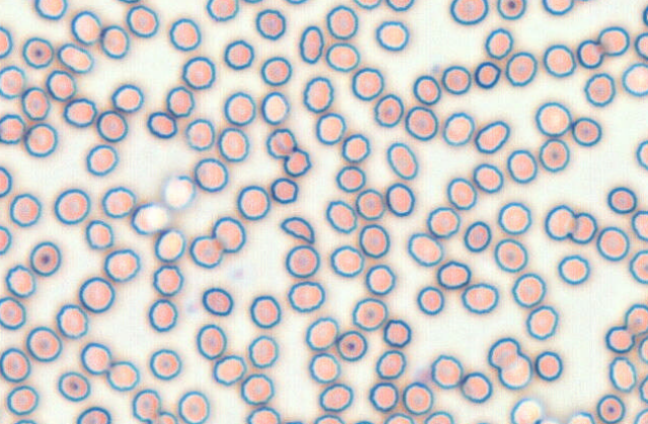PLT: (418, 368, 431, 381)
RBC: (25, 325, 62, 362), (78, 276, 115, 313), (534, 101, 572, 137), (53, 188, 91, 224), (130, 201, 170, 235), (497, 352, 533, 389), (211, 216, 246, 253), (511, 272, 546, 308), (103, 248, 140, 282), (460, 282, 499, 314), (193, 157, 228, 192), (23, 122, 58, 157), (162, 173, 196, 209), (351, 297, 387, 331), (407, 232, 443, 266), (236, 184, 270, 220), (287, 280, 325, 312), (386, 141, 418, 179), (285, 244, 320, 278), (493, 238, 528, 272), (404, 105, 438, 140), (525, 304, 558, 340), (474, 120, 510, 153), (302, 76, 334, 113), (497, 201, 531, 235), (542, 43, 576, 77), (329, 244, 364, 277), (351, 66, 384, 101), (101, 185, 136, 218), (596, 226, 629, 261), (56, 303, 88, 339), (195, 323, 227, 359), (29, 240, 61, 276), (56, 42, 93, 73), (189, 235, 223, 268), (305, 316, 338, 350), (430, 354, 463, 388), (181, 56, 215, 89), (125, 4, 159, 37), (223, 91, 256, 125), (358, 223, 390, 258), (70, 10, 102, 45), (326, 4, 358, 39), (217, 127, 249, 162), (442, 111, 474, 146), (505, 51, 537, 86), (583, 72, 615, 107), (544, 204, 575, 240), (177, 390, 210, 423), (85, 143, 118, 176), (212, 354, 246, 386), (240, 373, 274, 405), (247, 334, 279, 368), (325, 199, 357, 233), (426, 206, 460, 238), (9, 193, 41, 227), (249, 294, 281, 328), (169, 17, 201, 51), (538, 138, 570, 172), (0, 347, 31, 382), (154, 227, 185, 262), (506, 148, 537, 183), (487, 337, 520, 369), (80, 342, 112, 375), (96, 109, 128, 142), (21, 36, 54, 68), (106, 360, 140, 391), (5, 264, 36, 298), (402, 381, 433, 415), (5, 384, 39, 415), (373, 93, 404, 127), (375, 20, 409, 51), (436, 259, 471, 289), (318, 382, 353, 412), (99, 24, 129, 59), (325, 42, 360, 72), (608, 356, 637, 392), (460, 371, 492, 403), (149, 348, 181, 380), (308, 352, 341, 383), (57, 371, 90, 402), (557, 254, 590, 285), (446, 177, 477, 210), (184, 118, 215, 151), (315, 112, 346, 145), (131, 388, 161, 422), (148, 298, 178, 332), (385, 182, 415, 216), (63, 97, 97, 127), (298, 25, 324, 64), (335, 330, 367, 361), (265, 127, 296, 159), (152, 264, 183, 296), (45, 69, 76, 101), (255, 8, 286, 40), (260, 55, 292, 86), (597, 25, 629, 56), (21, 86, 50, 120), (260, 91, 289, 125), (449, 0, 488, 25), (223, 39, 254, 70), (472, 162, 503, 193), (365, 263, 395, 295), (355, 188, 385, 220), (201, 286, 233, 316), (111, 83, 143, 113), (368, 381, 398, 412), (375, 349, 406, 379), (571, 116, 602, 146), (484, 27, 513, 59), (165, 85, 194, 117), (569, 211, 597, 244), (441, 64, 471, 94), (412, 74, 441, 105), (463, 220, 491, 252), (509, 397, 543, 423), (0, 296, 26, 330), (621, 62, 647, 96), (0, 64, 26, 98), (596, 393, 625, 423), (85, 219, 114, 249), (341, 133, 370, 163), (534, 350, 562, 381), (146, 110, 177, 138), (382, 318, 411, 347), (604, 325, 634, 353), (283, 147, 311, 177), (416, 285, 444, 315), (607, 186, 637, 214), (576, 39, 604, 68), (335, 165, 365, 192), (0, 113, 25, 144), (474, 61, 501, 89), (270, 177, 298, 203), (624, 303, 647, 334), (205, 0, 238, 21), (628, 249, 647, 284), (34, 0, 67, 20), (246, 405, 280, 423), (496, 0, 526, 20), (76, 406, 111, 423), (631, 210, 647, 241), (541, 0, 574, 15), (0, 25, 13, 58), (423, 410, 454, 423), (0, 165, 12, 197), (635, 138, 647, 170), (566, 410, 595, 423), (634, 31, 647, 60), (0, 225, 12, 255), (383, 412, 414, 423), (153, 410, 178, 423), (385, 0, 414, 11), (313, 413, 344, 423), (639, 373, 648, 403), (638, 335, 647, 364), (352, 0, 381, 9), (633, 407, 647, 423), (467, 416, 497, 423), (534, 416, 563, 423), (642, 4, 648, 26), (13, 418, 37, 423), (282, 419, 304, 424), (352, 419, 375, 423), (284, 0, 307, 4), (242, 0, 263, 4), (116, 0, 141, 3), (573, 0, 597, 2)
Schistocyte: (281, 215, 316, 245)
